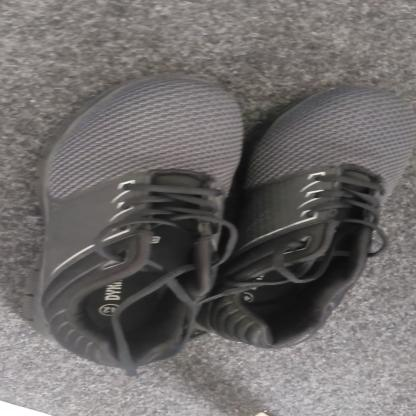safety-shoe: (21, 75, 416, 369)
